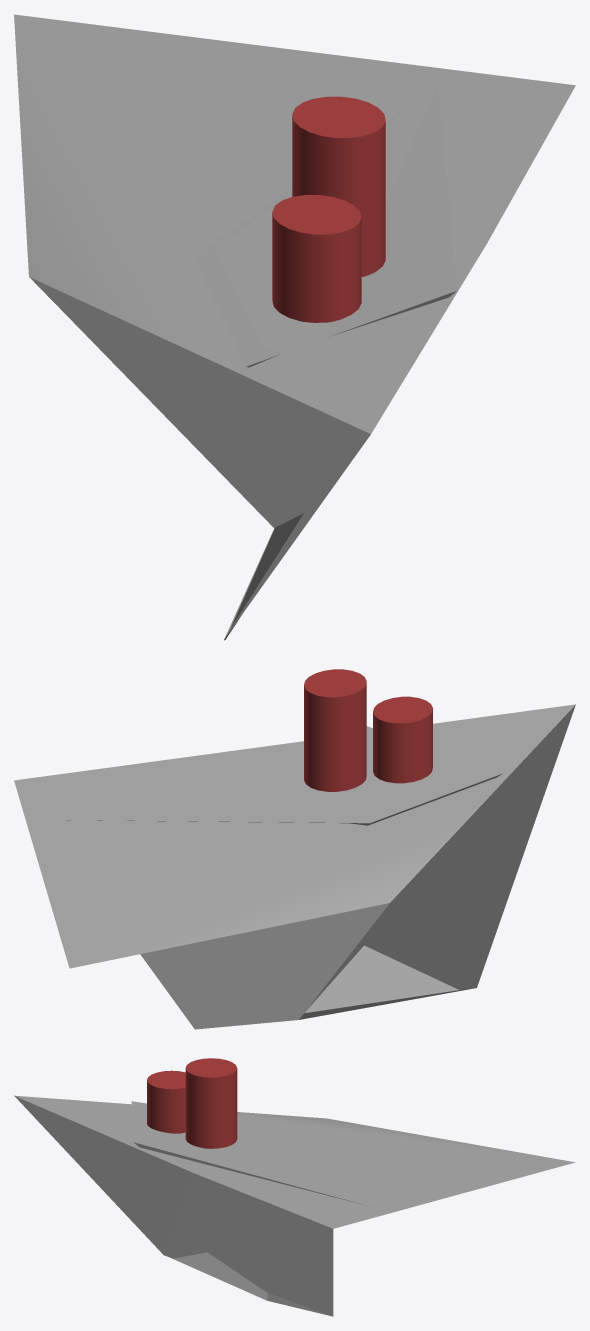
Rendered from NAVIUUUUU.fbx.
The picture shows the model from 3 angles, top to bottom: view 1: azimuth 30°, elevation 25°; view 2: azimuth 150°, elevation 25°; view 3: azimuth 270°, elevation 25°; orthographic projection. The views are drawn at different scales.
Visible parts, largest first — view 1: pCube1, pPyramid1, pCylinder1, pCylinder2; view 2: pCube1, pPyramid1, pCylinder1, pCylinder2; view 3: pCube1, pCylinder1, pPyramid1, pCylinder2.
Boxes of the visible parts, x1,y1,x2,y2 form: pCube1: [14, 14, 575, 640]; pPyramid1: [193, 85, 457, 367]; pCylinder1: [292, 96, 385, 276]; pCylinder2: [272, 195, 361, 322]; pCube1: [14, 704, 575, 1029]; pPyramid1: [53, 726, 503, 825]; pCylinder1: [304, 669, 366, 791]; pCylinder2: [373, 696, 432, 783]; pCube1: [14, 1095, 575, 1316]; pCylinder1: [185, 1058, 237, 1148]; pPyramid1: [131, 1101, 373, 1207]; pCylinder2: [147, 1070, 185, 1133].
Bounding box in the file's own units: 5.7 × 4.53 × 9.9.
